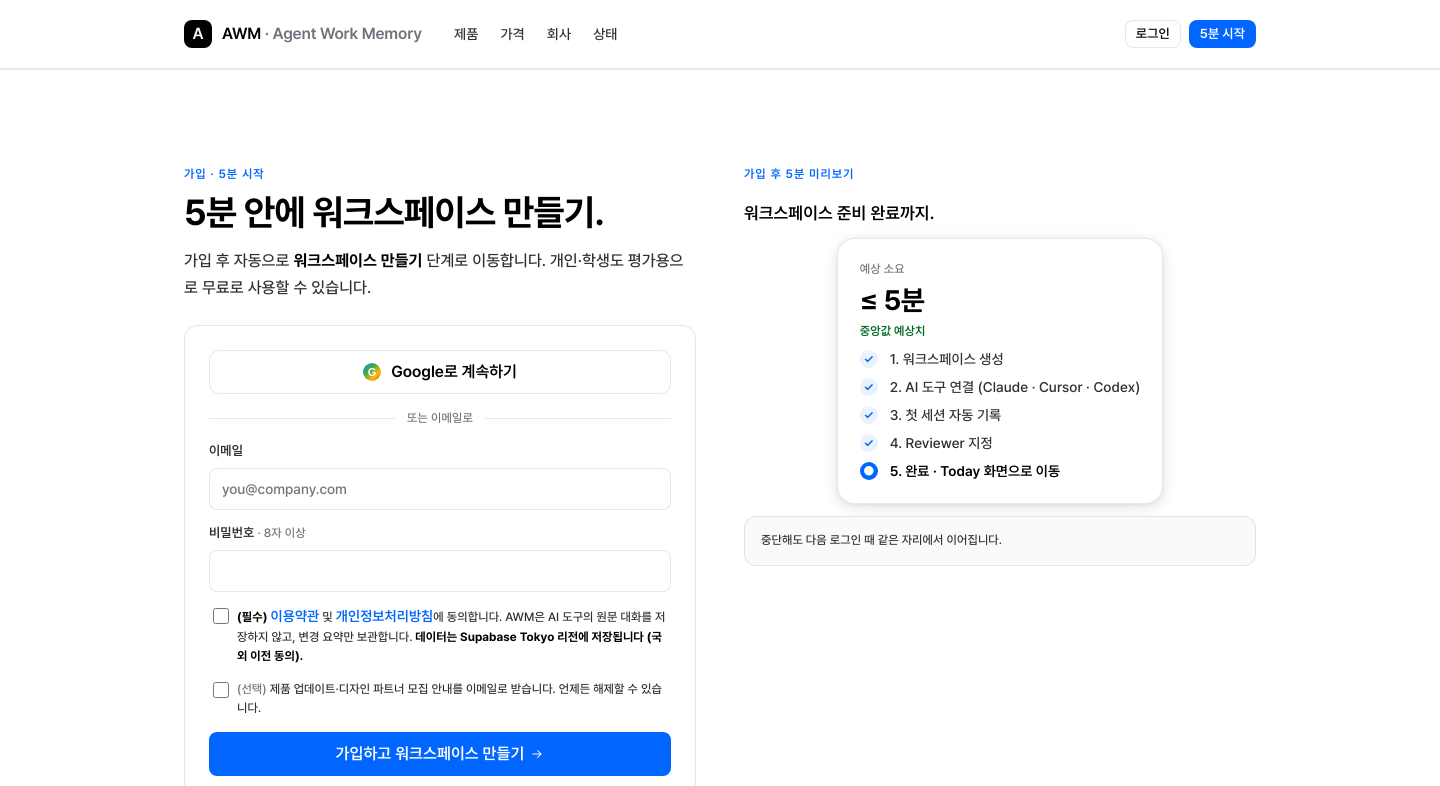
Test: AppShell + product IA › Signup /signup — form + 약관 필수 체크 + OAuth + 가입 후 5분 미리보기
Expected: the heading "5분 안에 워크스페이스 만들기." is shown, [184,191,604,234]
Expected: the text "가입 후 자동으로 워크스페이스 만들기 단계로 이동합니다. 개인·학생도 평가용으로 무료로 사용할 수 있습니다." is shown, [184,247,696,301]
Click the checkbox labelled "(필수)".
click(221, 616)  # box [213,608,229,624]
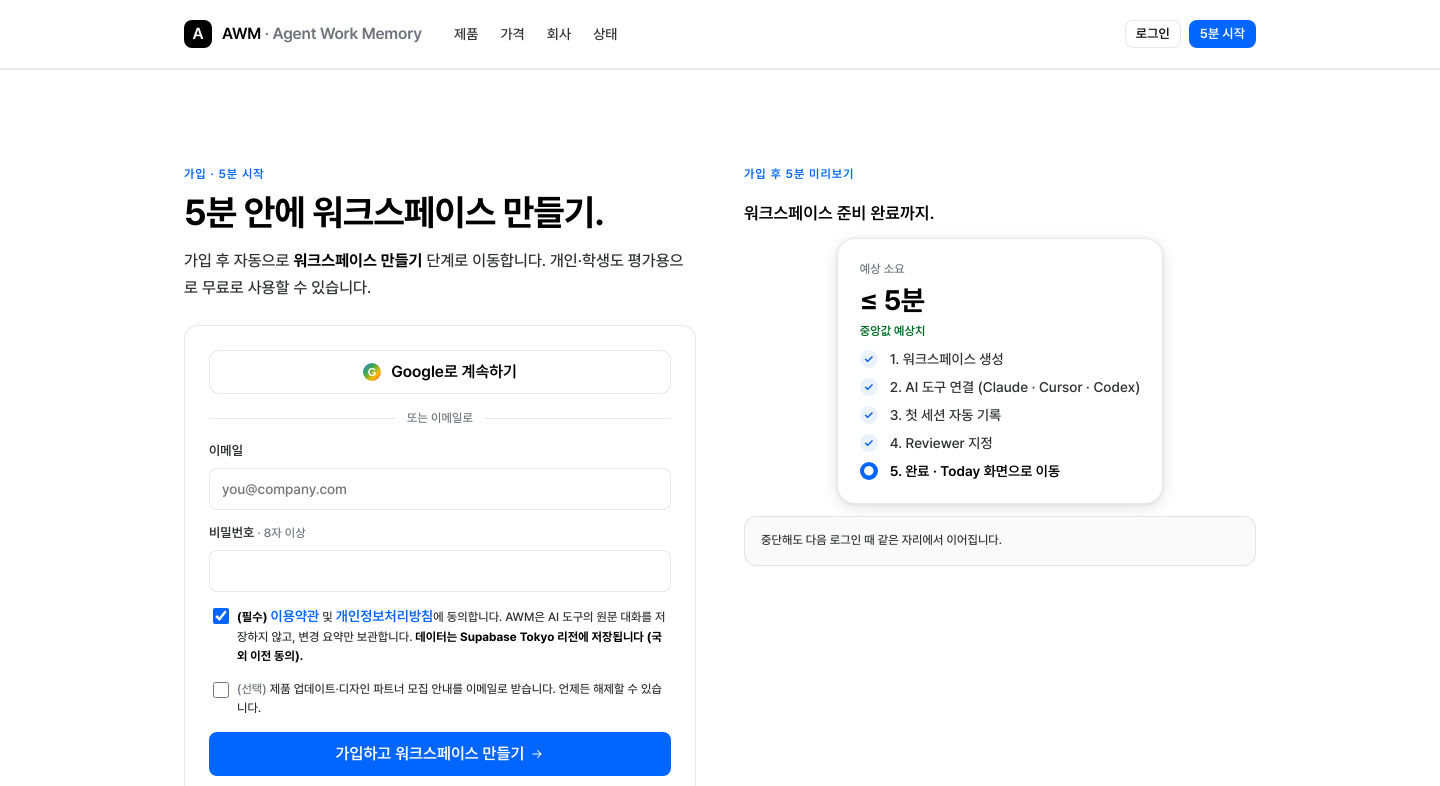
Expected: the button "가입하고 워크스페이스 만들기" is enabled, [209,732,671,776]
Expected: the checkbox labelled "(필수)" is checked
Click the checkbox labelled "(필수)".
click(221, 616)  # box [213,608,229,624]
(page scrolled)
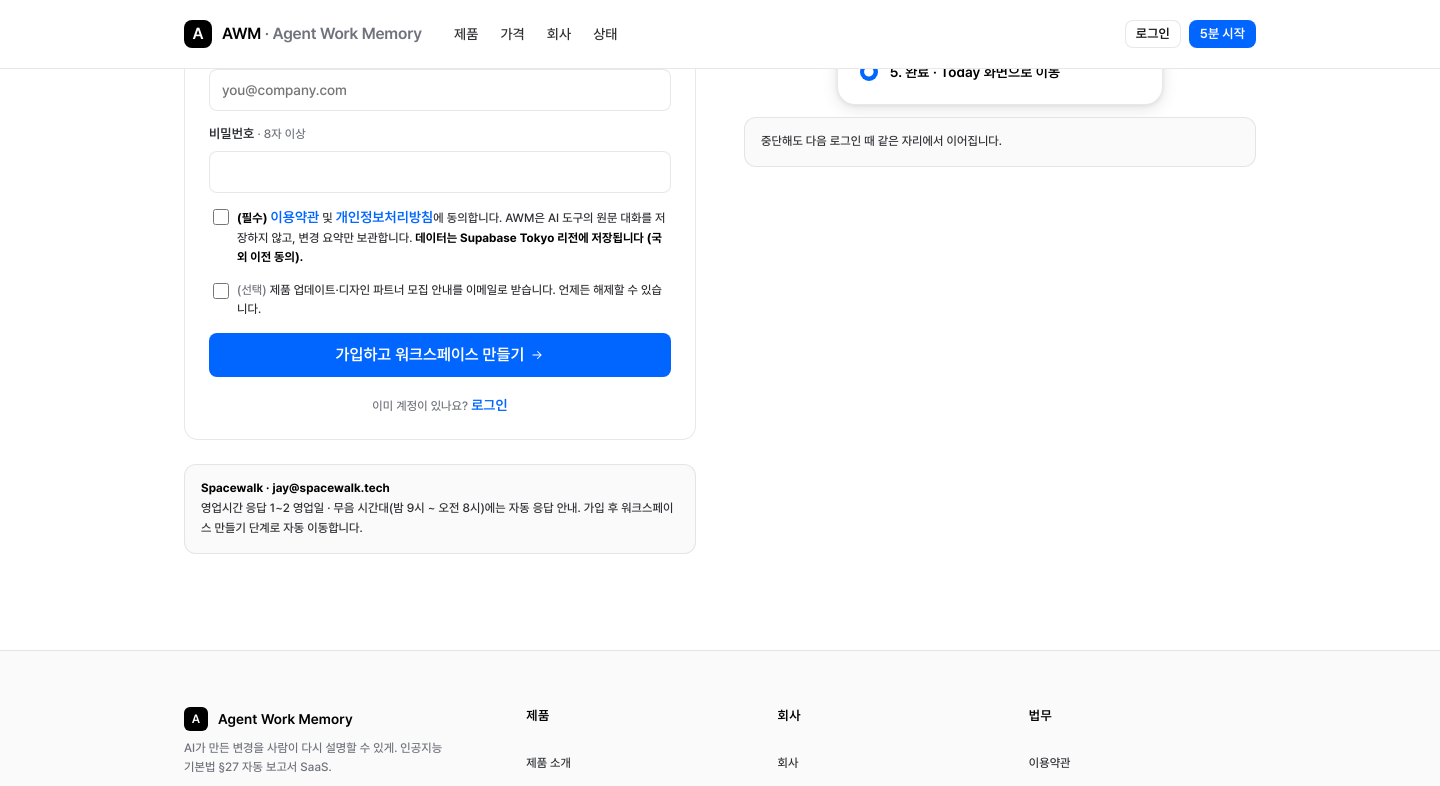
Expected: the text "5. 완료 · Today 화면으로 이동" is shown, [890,64,1060,80]
Expected: the button "가입하고 워크스페이스 만들기" is disabled, [209,333,671,377]
